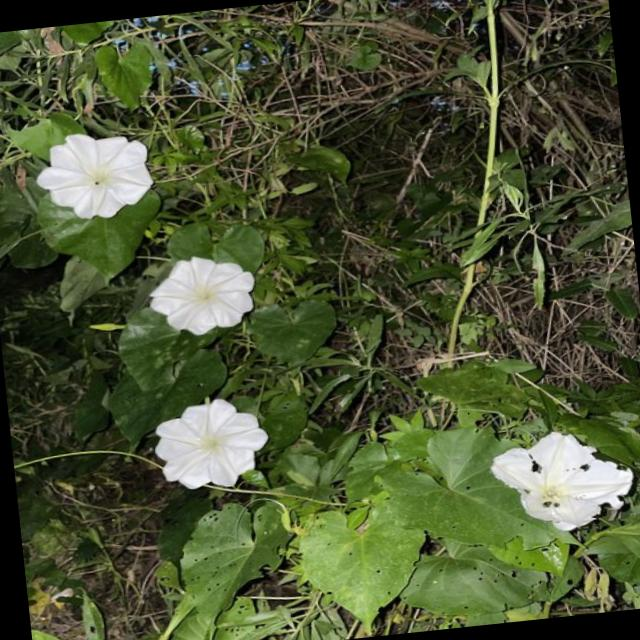ipomoea: (483, 421, 640, 541), (145, 390, 276, 497), (28, 124, 160, 228), (140, 247, 264, 343)
